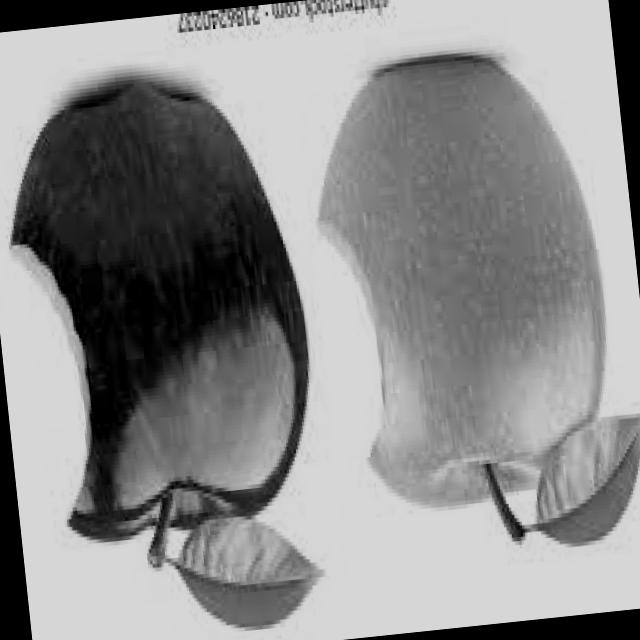Used Apple: (302, 43, 628, 520), (0, 74, 320, 549)
